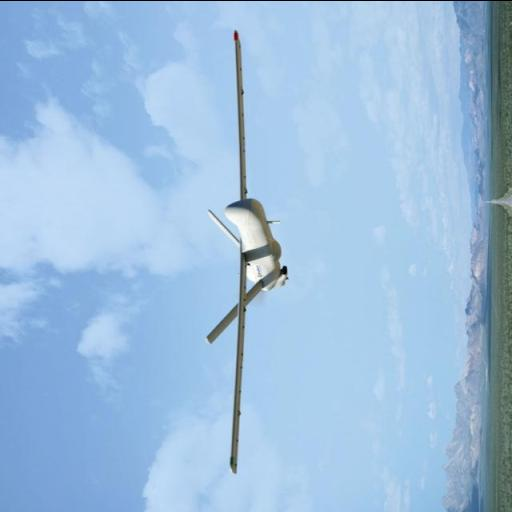uav: (204, 27, 288, 486)
